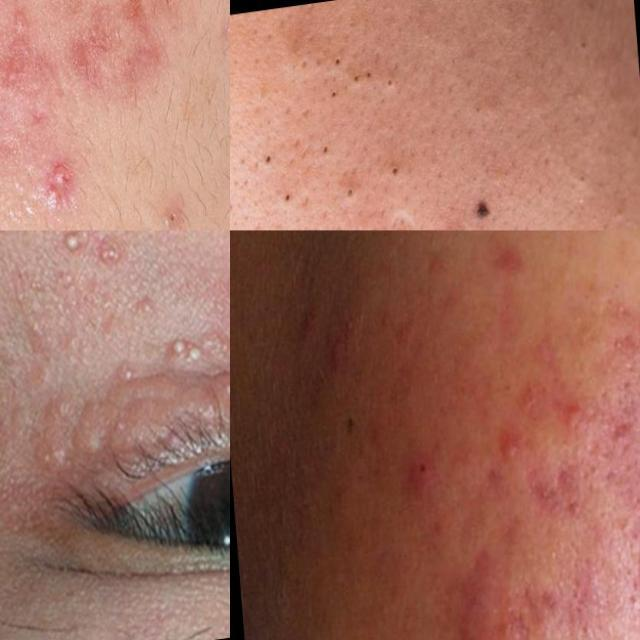Pimples: (447, 541, 515, 640), (316, 37, 404, 113), (4, 389, 82, 468), (68, 395, 140, 457), (158, 385, 230, 434), (143, 321, 207, 370), (34, 230, 94, 272), (550, 382, 592, 434), (564, 144, 596, 202), (454, 83, 488, 133), (240, 138, 280, 176), (85, 231, 128, 261), (601, 197, 637, 230), (332, 174, 360, 214), (384, 149, 410, 192), (267, 183, 299, 216), (623, 300, 640, 362), (309, 134, 335, 163), (436, 212, 471, 230), (389, 207, 416, 230), (213, 359, 230, 392)
